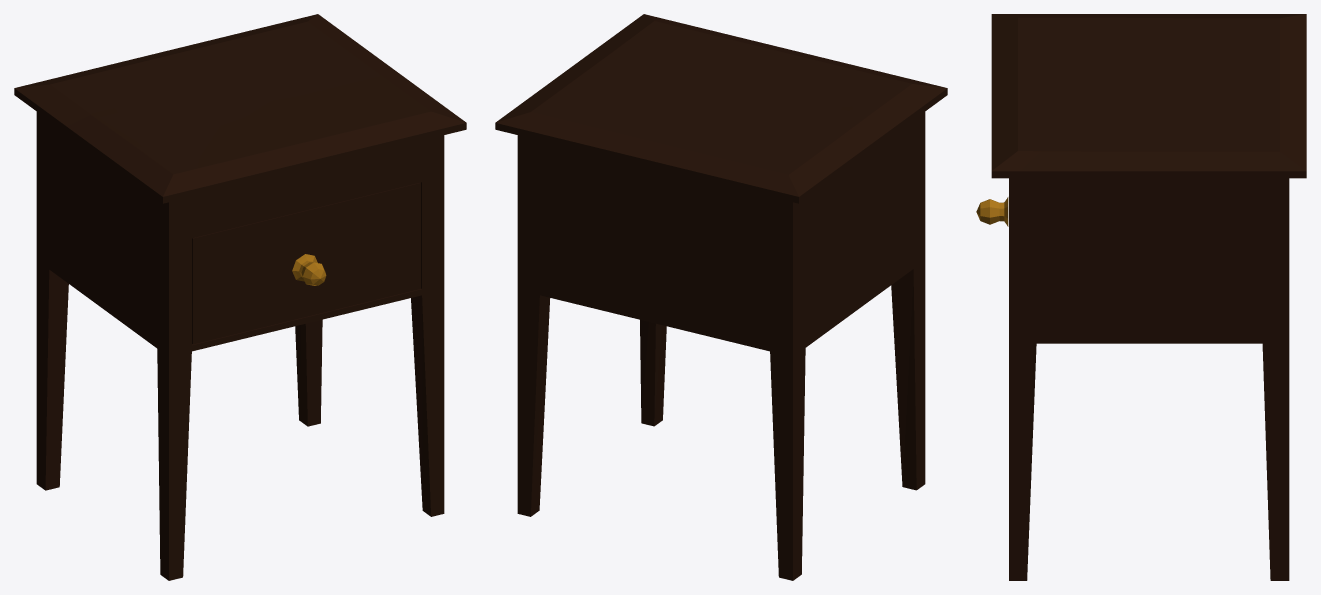
File: Small Table.FBX
3 renders of one model, left to right at view 1: azimuth 30°, elevation 25°; view 2: azimuth 150°, elevation 25°; view 3: azimuth 270°, elevation 25°, orthographic. The views are drawn at different scales.
Visible parts, largest first — view 1: Bedside Table Close; view 2: Bedside Table Close; view 3: Bedside Table Close.
Boxes of the visible parts, x1=… form: Bedside Table Close: x1=14, y1=14, x2=466, y2=580; Bedside Table Close: x1=495, y1=14, x2=947, y2=580; Bedside Table Close: x1=976, y1=14, x2=1306, y2=580.
Bounding box in the file's own units: 1.06 × 1.34 × 0.9435.
